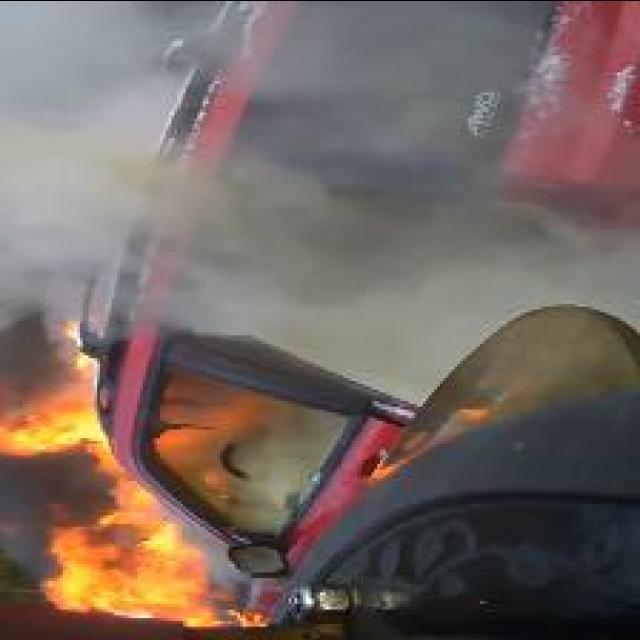Fire: (0, 314, 266, 628)
